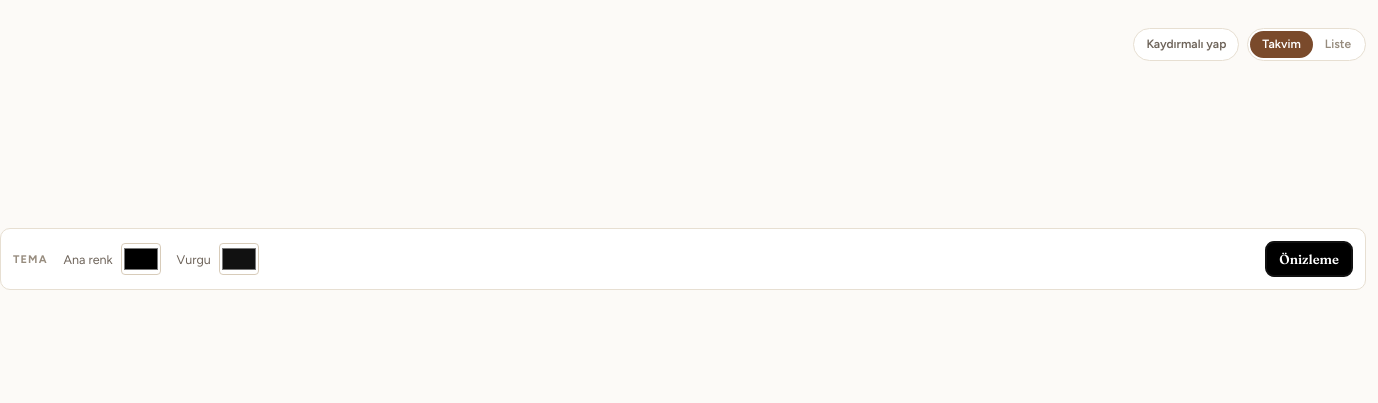
Test: PlanEditor — calendar view › switches to the list view when asked
Click the button "Liste".
click(1338, 45)  # box [1313,32,1363,58]
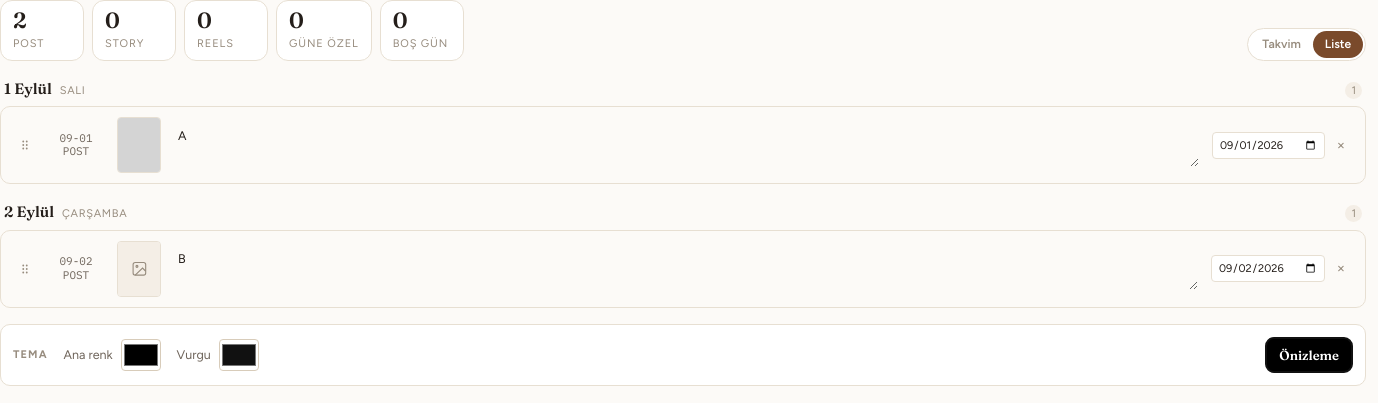
Expected: the date field named "Tarih" in the row of "09-01" is shown, [1212,132,1325,159]
